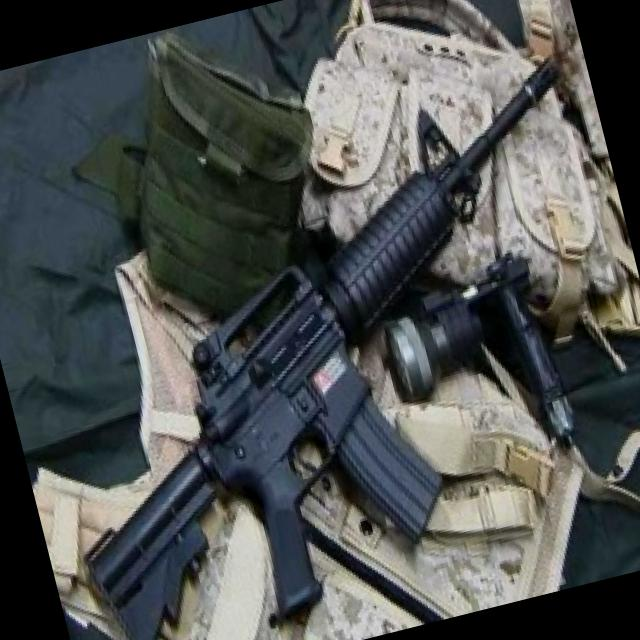long weapon: (46, 40, 582, 640)
